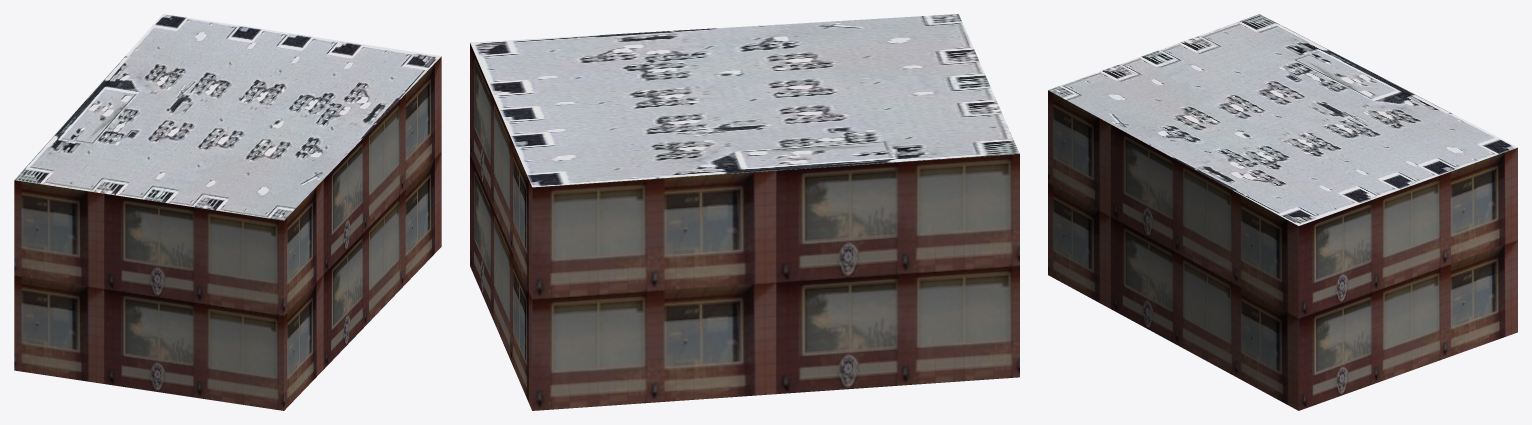
Rendered from ResTex__1545.fbx.
The picture shows the model from 3 angles, left to right: view 1: azimuth 30°, elevation 25°; view 2: azimuth 150°, elevation 25°; view 3: azimuth 270°, elevation 25°; orthographic projection. The views are drawn at different scales.
Visible parts, largest first — view 1: CityEngineMaterial_13_m, CityEngineMaterial_4_m; view 2: CityEngineMaterial_13_m, CityEngineMaterial_4_m; view 3: CityEngineMaterial_13_m, CityEngineMaterial_4_m.
Boxes of the visible parts, bbox=[...] form: CityEngineMaterial_13_m: bbox=[14, 57, 441, 410]; CityEngineMaterial_4_m: bbox=[14, 14, 441, 220]; CityEngineMaterial_13_m: bbox=[470, 43, 1019, 410]; CityEngineMaterial_4_m: bbox=[470, 14, 1019, 187]; CityEngineMaterial_13_m: bbox=[1048, 90, 1517, 410]; CityEngineMaterial_4_m: bbox=[1048, 14, 1517, 225].
Size of the model in its own units: 14.77 by 6 by 13.83.
2 materials, 2 textured.
